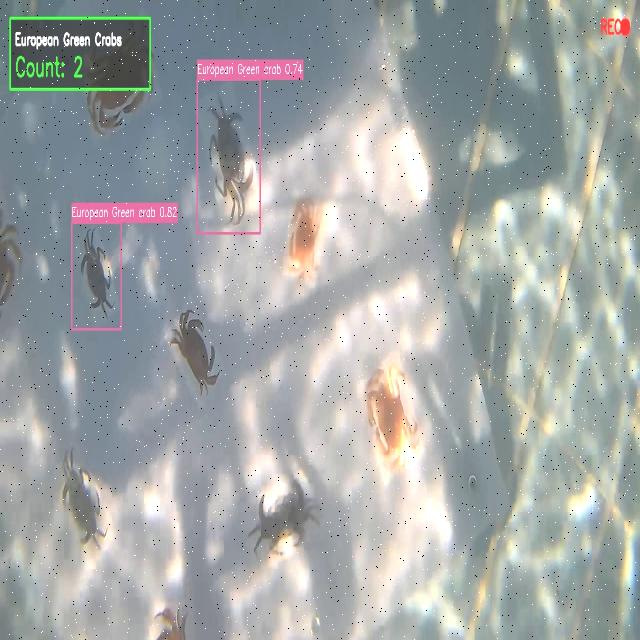European_Green_Crab: (191, 91, 265, 233), (239, 463, 325, 585), (66, 220, 128, 331), (56, 443, 111, 568)
